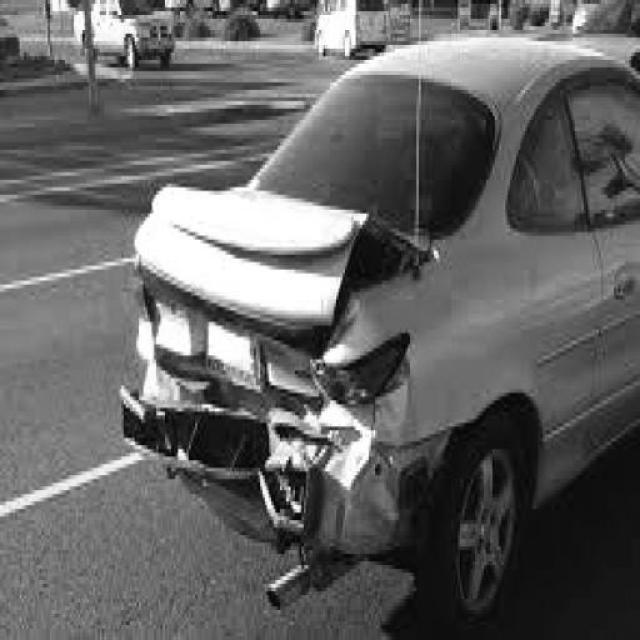car damage: (118, 177, 437, 575)
